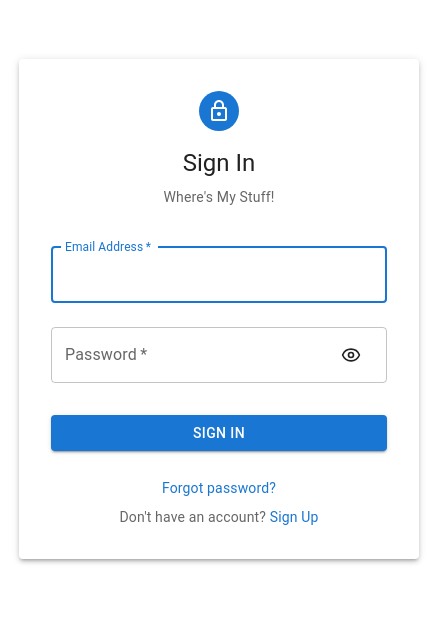
Scenario: Preservation Property Tests: Authentication Flow Behavior › should display error message for UserNotConfirmedException
Type "unconfirmed@example.com" into the field labelled "Email Address *" at {"x": 219, "y": 275}, box [51, 247, 387, 303]
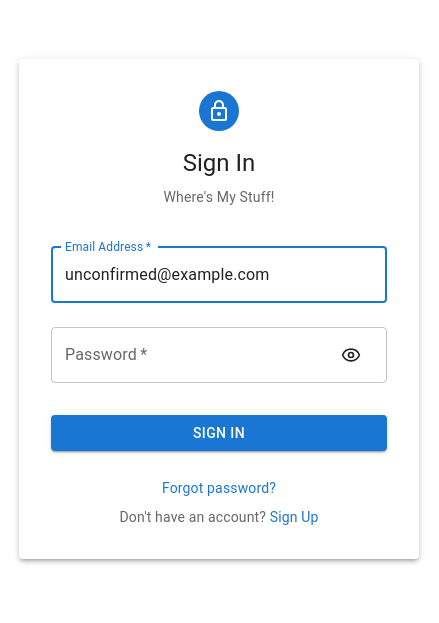
Type "ValidPassword123!" into the password field labelled "Password *" at {"x": 190, "y": 355}, box [51, 327, 329, 383]
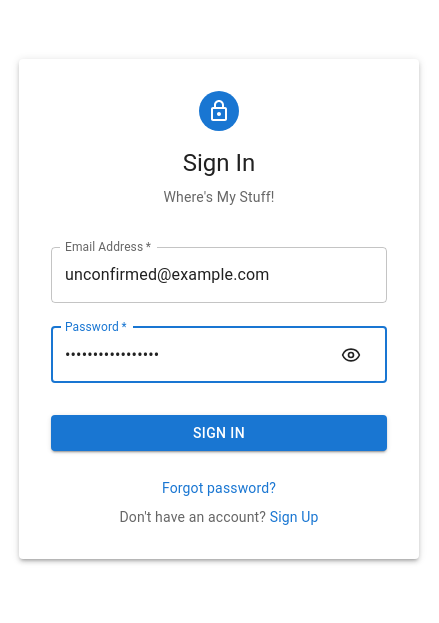
Note: Submit form
Click the button "Sign In" at {"x": 219, "y": 433}, box [51, 415, 387, 452]
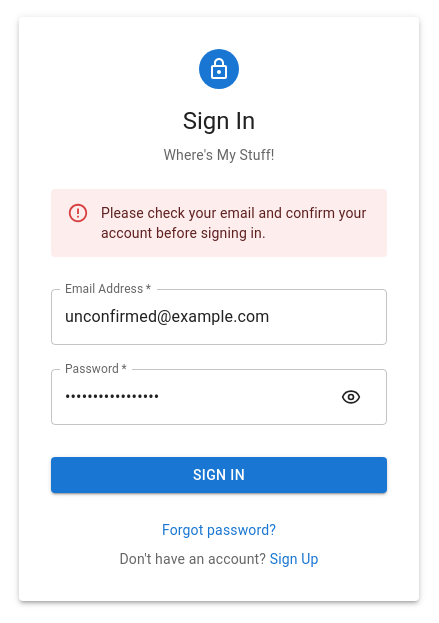
expect the message shows "check your email and confirm your account": met, box [101, 205, 366, 241]
